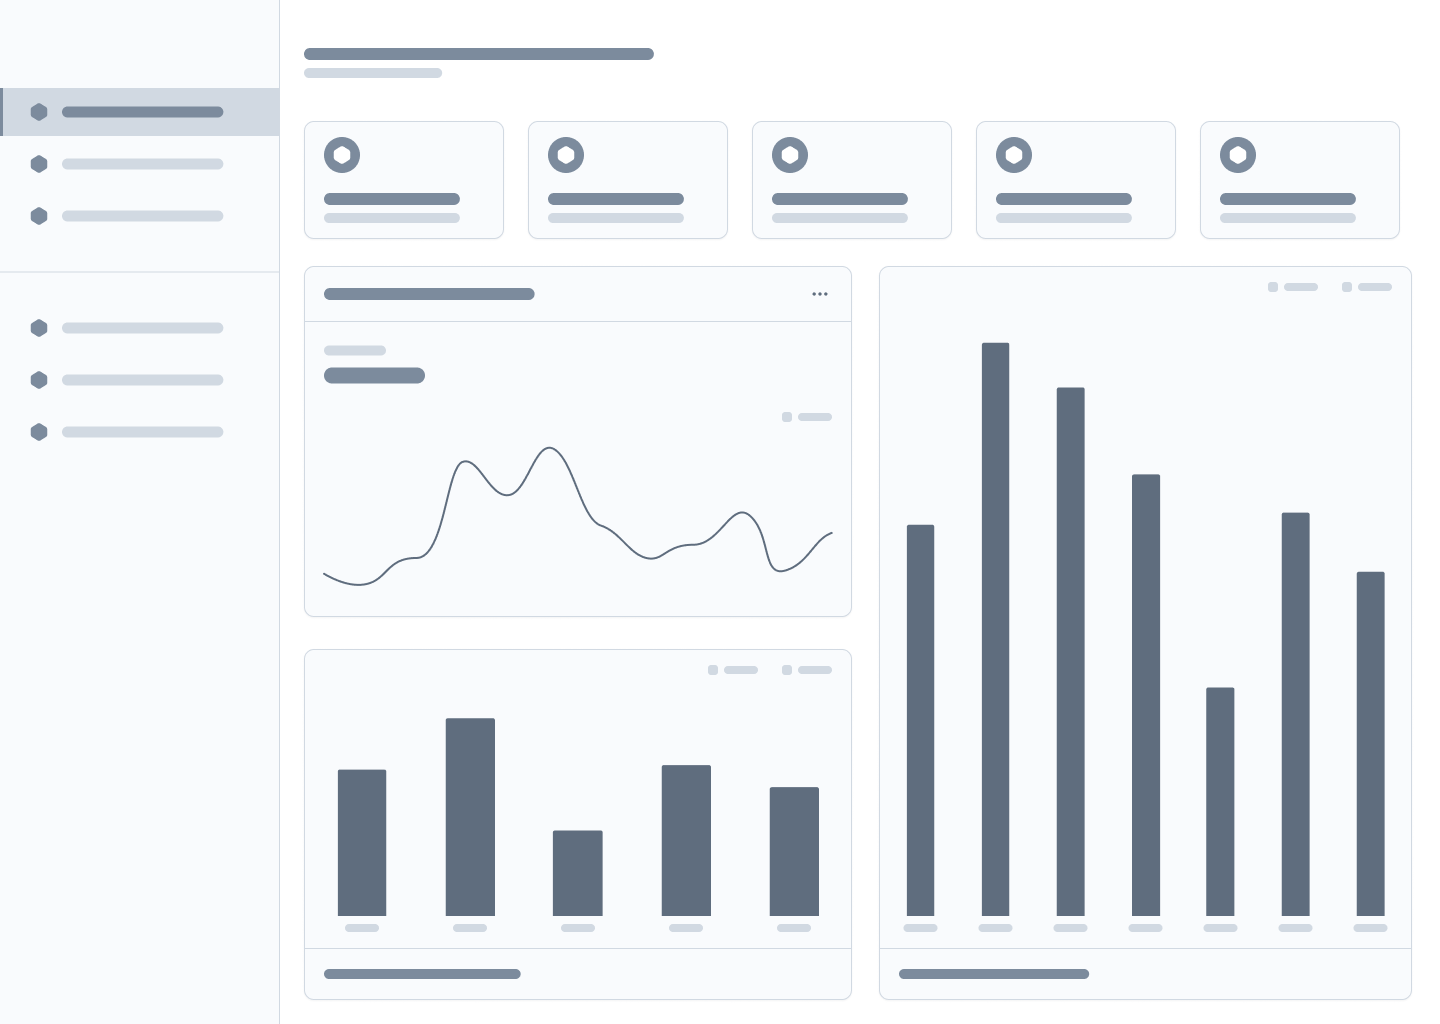

Layout of this report page (visuals, bound fields, positions):
{"tool":"powerbi","page":{"name":"Overview","canvas":[1280,720],"ordinal":0},"visuals":[{"type":"textbox","box":[16,0,528,48],"z":0},{"type":"card","fields":{"Values":["cleaned_employee_attrition.m_TotalEmployees"]},"box":[0,48,224,112],"z":7},{"type":"card","fields":{"Values":["cleaned_employee_attrition.m_AttritionCount"]},"box":[224,48,240,112],"z":8},{"type":"card","fields":{"Values":["cleaned_employee_attrition.m_AttritionRate"]},"box":[480,48,224,112],"z":9},{"type":"card","fields":{"Values":["cleaned_employee_attrition.m_AvgWorkLifeBalance"]},"box":[688,48,240,112],"z":10},{"type":"card","fields":{"Values":["cleaned_employee_attrition.Average Job Satisfaction"]},"box":[928,48,240,112],"z":11},{"type":"lineChart","fields":{"Category":["cleaned_employee_attrition.YearsSinceLastPromotion"],"Y":["cleaned_employee_attrition.m_AttritionRate"]},"box":[160,176,656,304],"z":13},{"type":"columnChart","fields":{"Category":["cleaned_employee_attrition.JobRole"],"Y":["Sum(cleaned_employee_attrition.MonthlyIncome)"],"Series":["cleaned_employee_attrition.Attrition"]},"box":[816,208,448,496],"z":14},{"type":"slicer","fields":{"Values":["cleaned_employee_attrition.JobRole"]},"box":[0,192,160,320],"z":15},{"type":"columnChart","title":"Attrition Rate by Distance by Distance from home","fields":{"Y":["cleaned_employee_attrition.Attrition Rate by Distance"],"Category":["cleaned_employee_attrition.Distance Band"]},"box":[160,480,672,240],"z":16},{"type":"slicer","fields":{"Values":["cleaned_employee_attrition.OverTime"]},"box":[0,512,160,208],"z":17}]}

Visuals, with their boxes on the page's 1280x720 design canvas (x1, y1, x2, y2). These are canvas units, not pixel positions in the 1440x1024 screenshot, which may show the page scaled, cropped or inside an application window:
textbox: (16,0,544,48)
card - cleaned_employee_attrition.m_TotalEmployees: (0,48,224,160)
card - cleaned_employee_attrition.m_AttritionCount: (224,48,464,160)
card - cleaned_employee_attrition.m_AttritionRate: (480,48,704,160)
card - cleaned_employee_attrition.m_AvgWorkLifeBalance: (688,48,928,160)
card - cleaned_employee_attrition.Average Job Satisfaction: (928,48,1168,160)
lineChart - cleaned_employee_attrition.YearsSinceLastPromotion x cleaned_employee_attrition.m_AttritionRate: (160,176,816,480)
columnChart - cleaned_employee_attrition.JobRole x Sum(cleaned_employee_attrition.MonthlyIncome): (816,208,1264,704)
slicer - cleaned_employee_attrition.JobRole: (0,192,160,512)
"Attrition Rate by Distance by Distance from home" columnChart: (160,480,832,720)
slicer - cleaned_employee_attrition.OverTime: (0,512,160,720)
